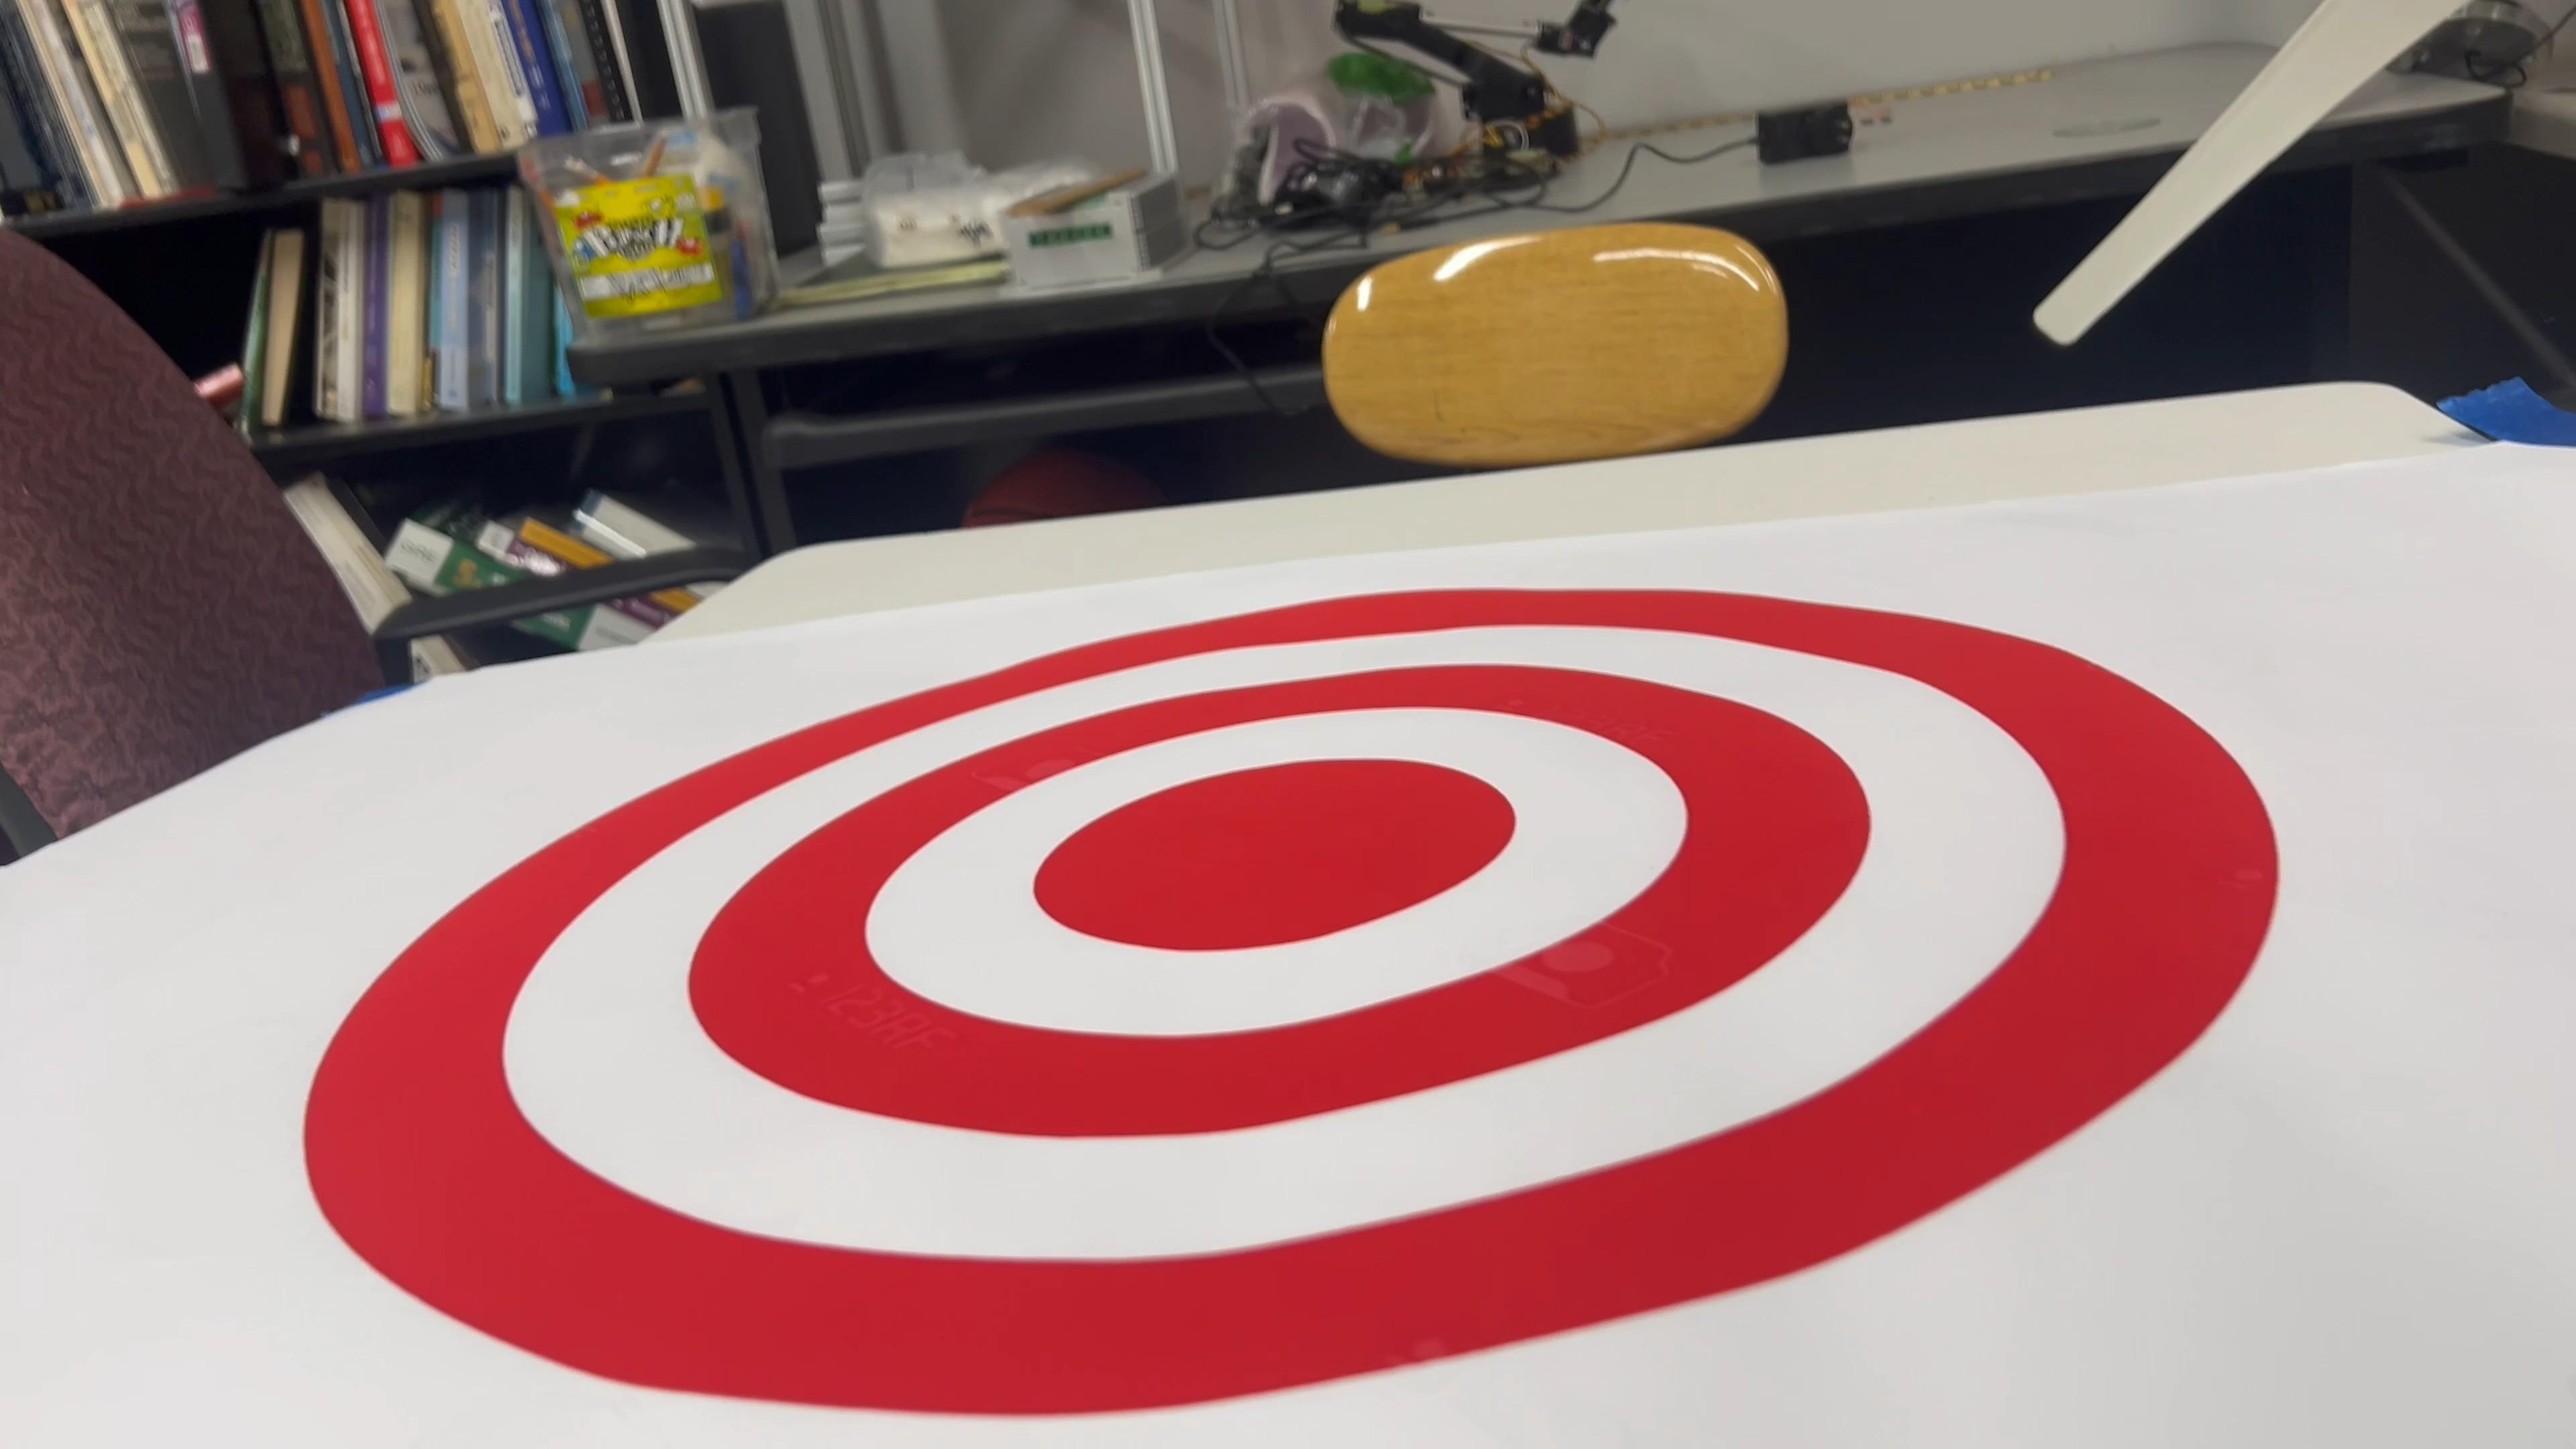target_red: (257, 564, 2304, 1449)
